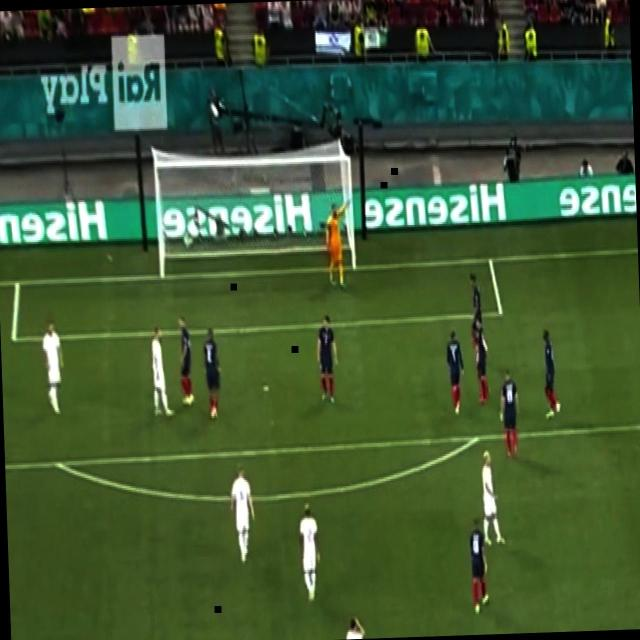player-white: (321, 187, 359, 293), (228, 462, 260, 570), (294, 497, 324, 607), (148, 322, 177, 424), (313, 310, 342, 407), (479, 447, 507, 547), (496, 365, 524, 462), (40, 318, 68, 415), (467, 513, 492, 619), (199, 322, 224, 424), (540, 327, 564, 419), (442, 326, 467, 412), (173, 311, 194, 409), (470, 310, 490, 404), (468, 269, 487, 355), (341, 612, 372, 640), (634, 353, 640, 449)
